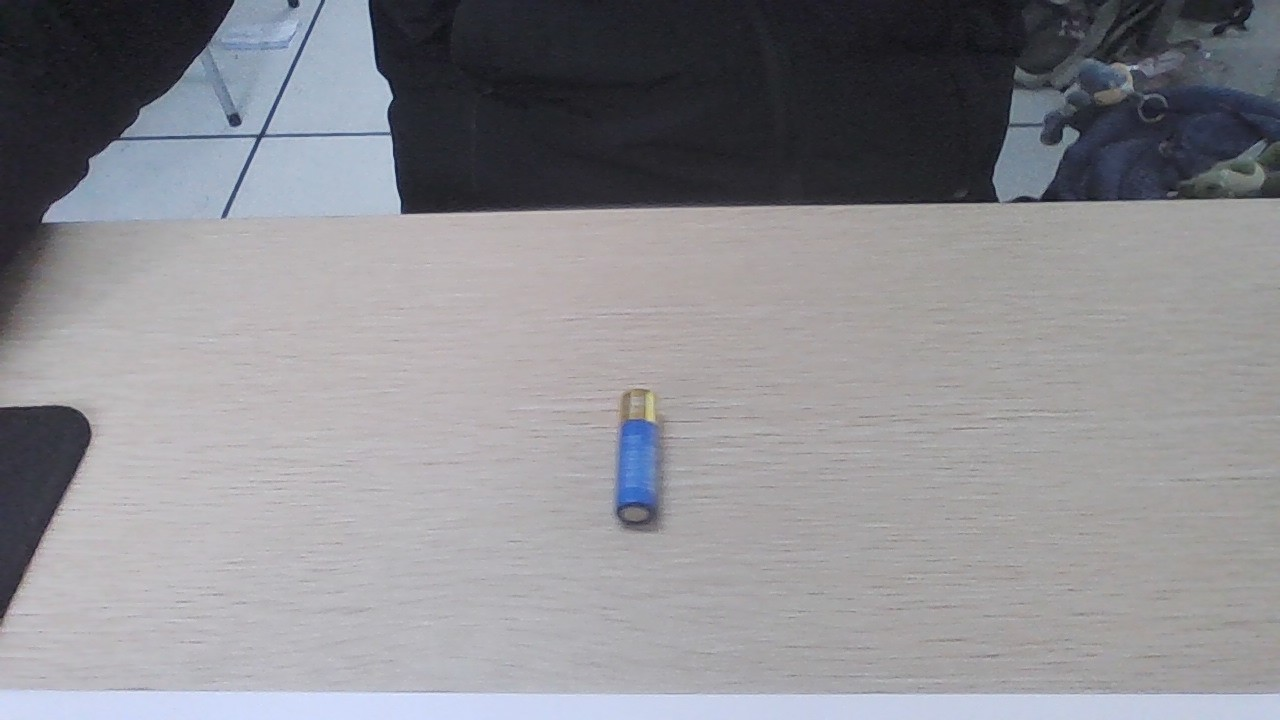YH-battery: (613, 386, 666, 522)
